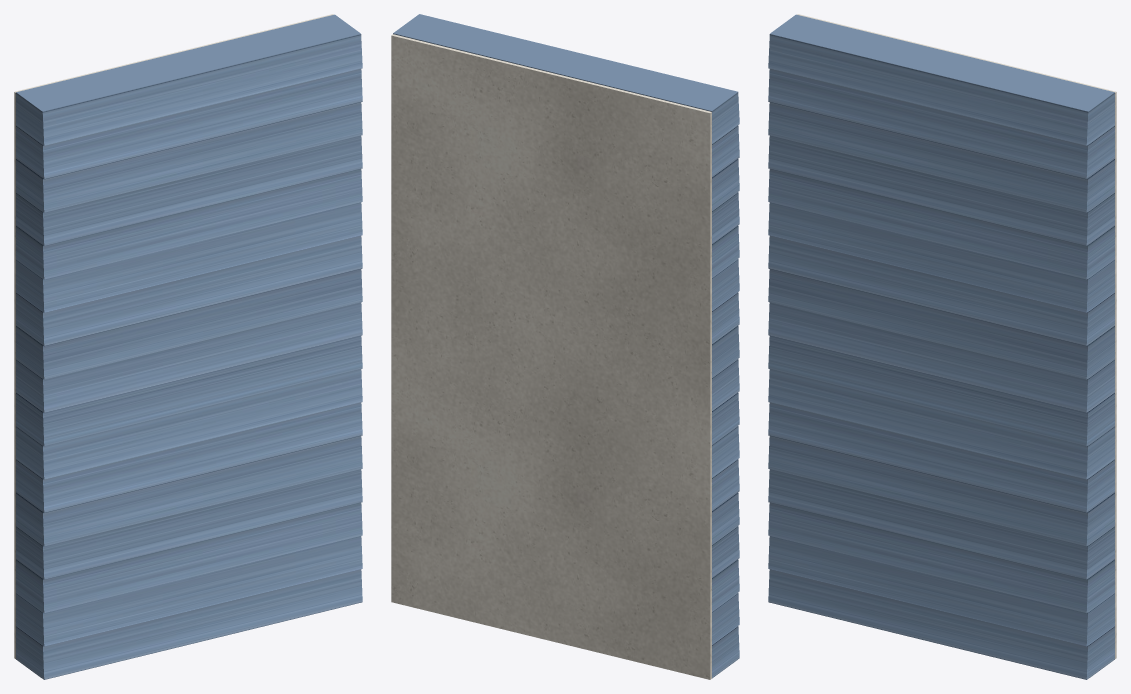
Rendered from f_u_plain_d.glb.
3 views of the same model, side by side, from view 1: azimuth 30°, elevation 25°; view 2: azimuth 150°, elevation 25°; view 3: azimuth 330°, elevation 25° (orthographic).
Visible parts, largest first — view 1: f_u_plain_d_siding_d, f_u_plain_d_plaster; view 2: f_u_plain_d_plaster, f_u_plain_d_siding_d; view 3: f_u_plain_d_siding_d, f_u_plain_d_plaster.
Part boxes in pixels (x1,y1,x2,y2): f_u_plain_d_siding_d: (16, 14, 362, 679); f_u_plain_d_plaster: (14, 14, 333, 658); f_u_plain_d_plaster: (391, 34, 711, 679); f_u_plain_d_siding_d: (393, 14, 739, 678); f_u_plain_d_siding_d: (768, 14, 1114, 679); f_u_plain_d_plaster: (797, 14, 1116, 658).
Bounding box in the file's own units: 2 × 3.4 × 0.324.
2 materials, 2 textured.
